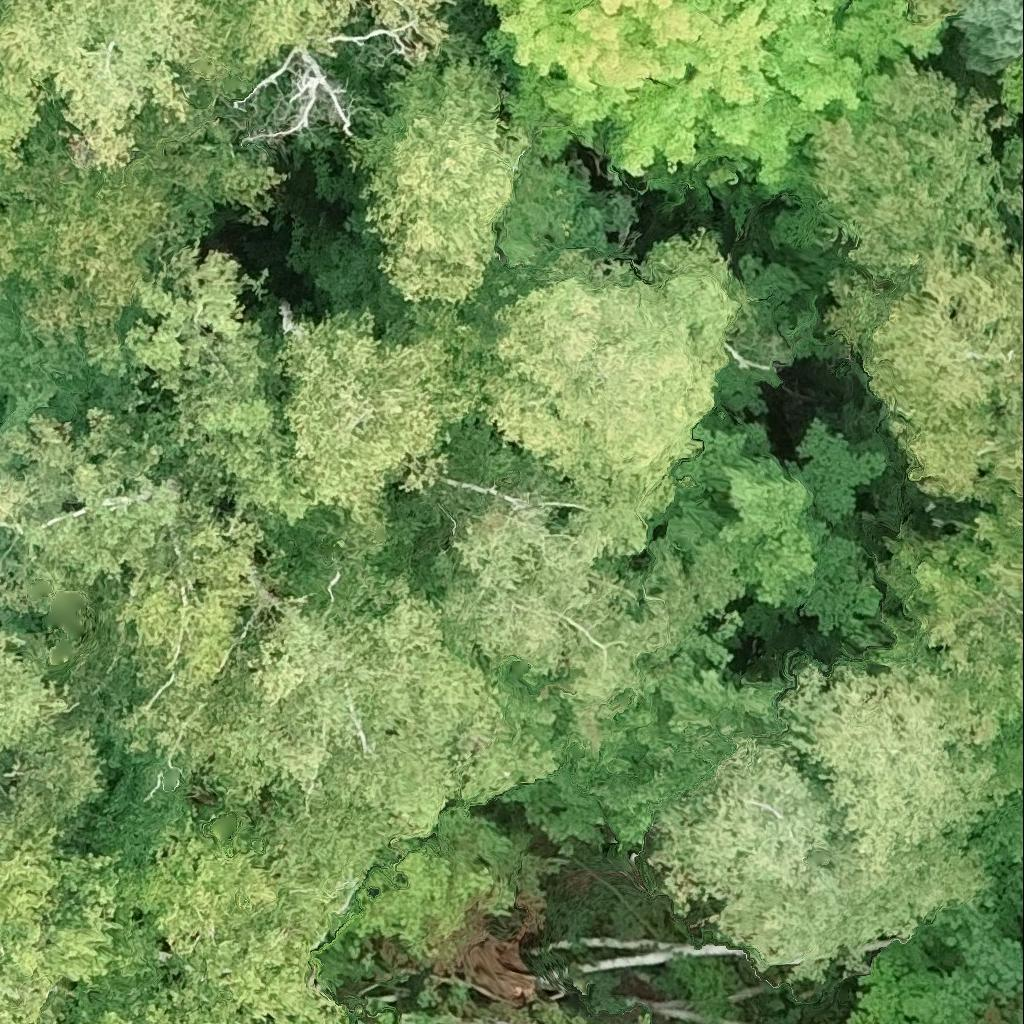crown: (187, 514, 559, 891), (131, 253, 480, 558), (475, 230, 756, 545), (487, 0, 942, 190), (0, 68, 278, 371), (649, 733, 986, 981), (422, 471, 694, 751), (799, 52, 1023, 347), (59, 808, 355, 1023), (479, 641, 788, 846), (66, 466, 267, 767), (653, 415, 889, 662), (343, 48, 537, 318), (770, 655, 1010, 867), (857, 223, 1023, 499), (0, 405, 184, 629), (879, 514, 1023, 791), (0, 0, 233, 171), (0, 816, 141, 1023), (0, 632, 106, 833), (206, 0, 454, 72), (951, 0, 1023, 75), (0, 59, 49, 162), (974, 453, 1023, 534), (994, 54, 1023, 117), (902, 0, 960, 28), (1009, 571, 1023, 607), (1007, 142, 1023, 172), (356, 1016, 418, 1023), (70, 0, 105, 5), (1017, 242, 1023, 249)
